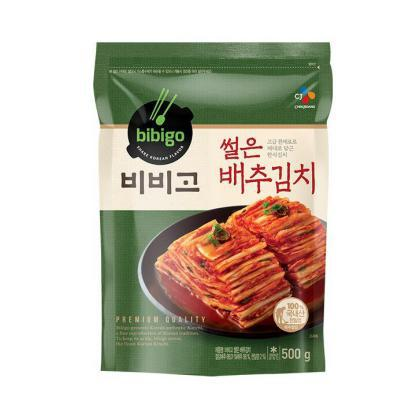kimchi: (146, 186, 354, 332)
